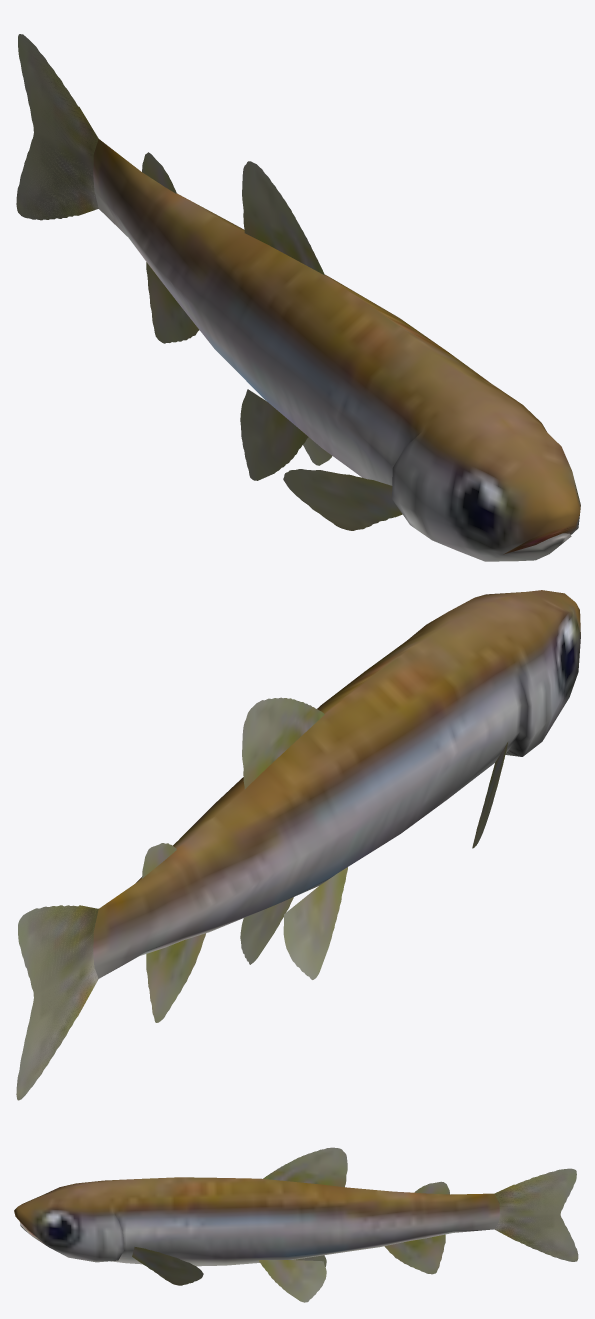
File: pond-smelt.glb
3 renders of one model, top to bottom at view 1: azimuth 30°, elevation 25°; view 2: azimuth 150°, elevation 25°; view 3: azimuth 270°, elevation 25°, orthographic. The views are drawn at different scales.
Bounding box in the file's own units: 1.03 × 1.3 × 4.29.
1 material, 1 textured.
